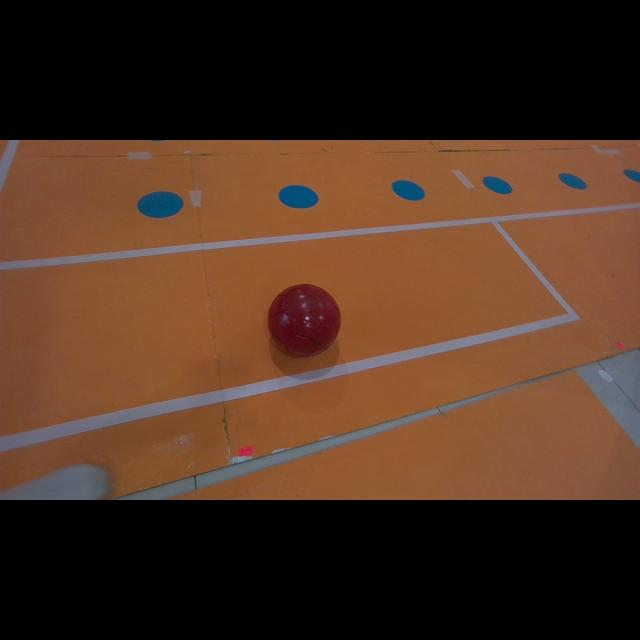R: (268, 284, 341, 358)
